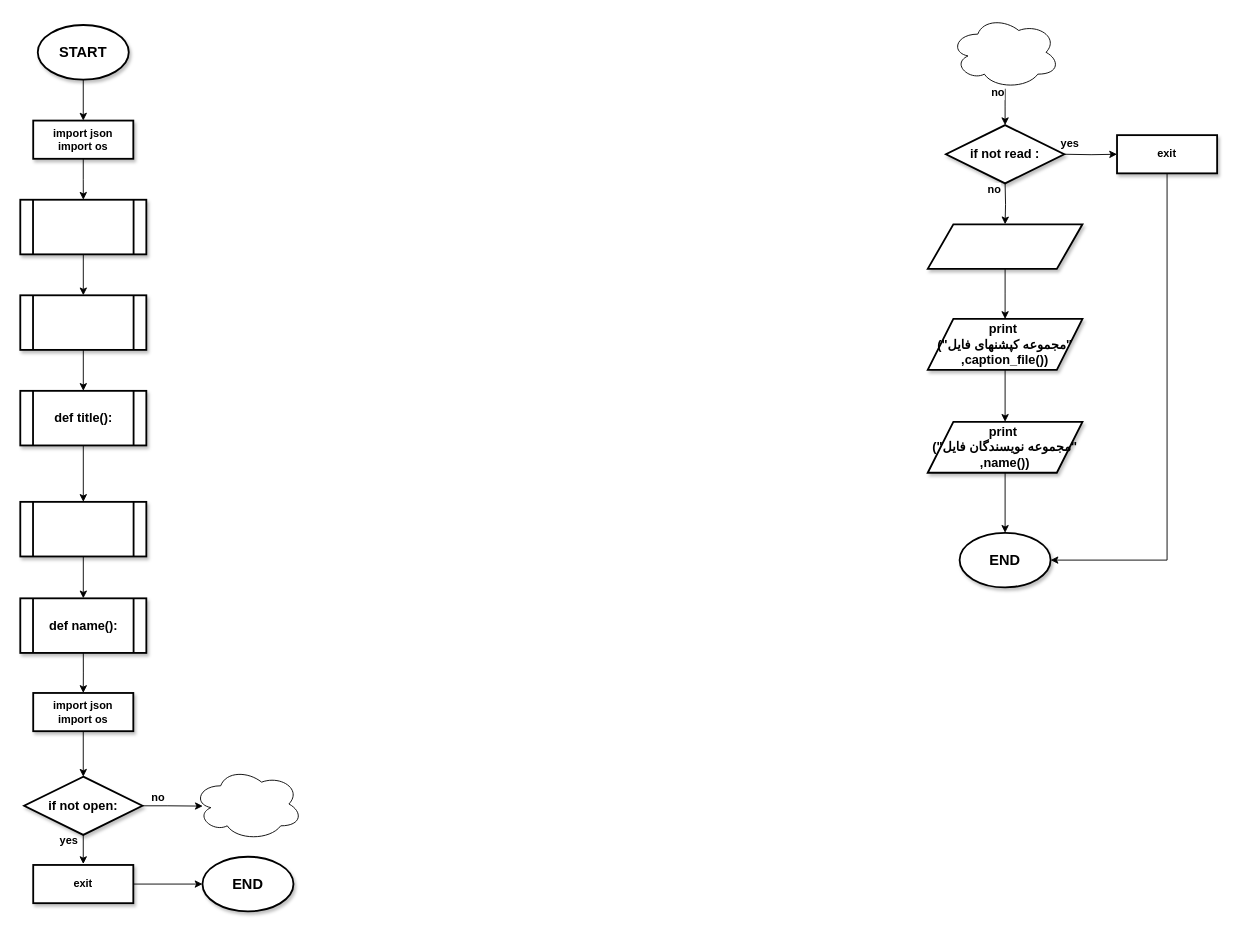
The diagram is 1239 pixels wide and 935 high, and some of its shapes have lost their labels. Here are the shapes that lost their labels. From the top down, the centre of each, then its label:
the point at 1005,52: ادامه فلوچارت از صفحه قبل
the point at 83,228: def open_file():
the point at 1005,247: print ("عنوانهای فایل" ,title())
the point at 83,323: def read_json():
the point at 83,530: def caption_file():
the point at 247,803: ادامه فلوچارت در صفحه بعدی
